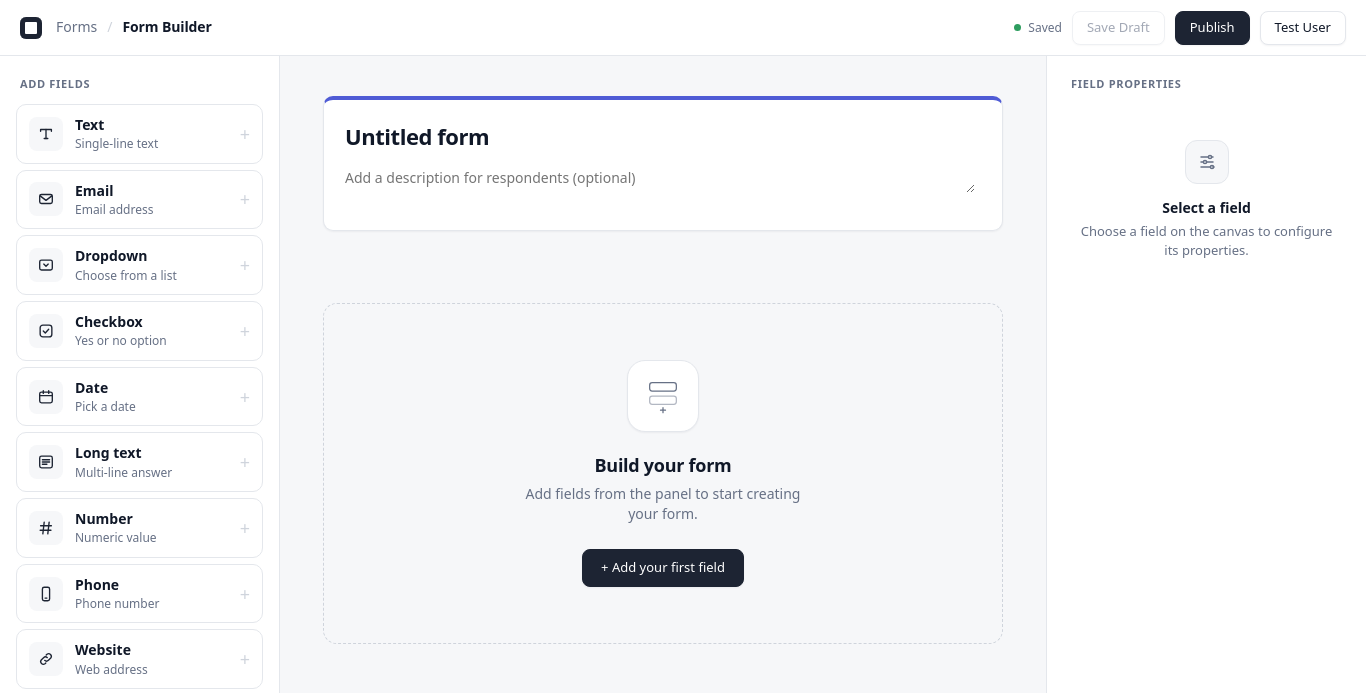
Test: a builder without a form (opened at /) › Publish is usable and saves (creating the form) before publishing
This screenshot has width=1366, height=693.
Expected: the button "Publish" is enabled, [1175,10,1250,44]
Click the button with aria-label "Add Text field".
click(140, 134)  # box [16,104,263,164]
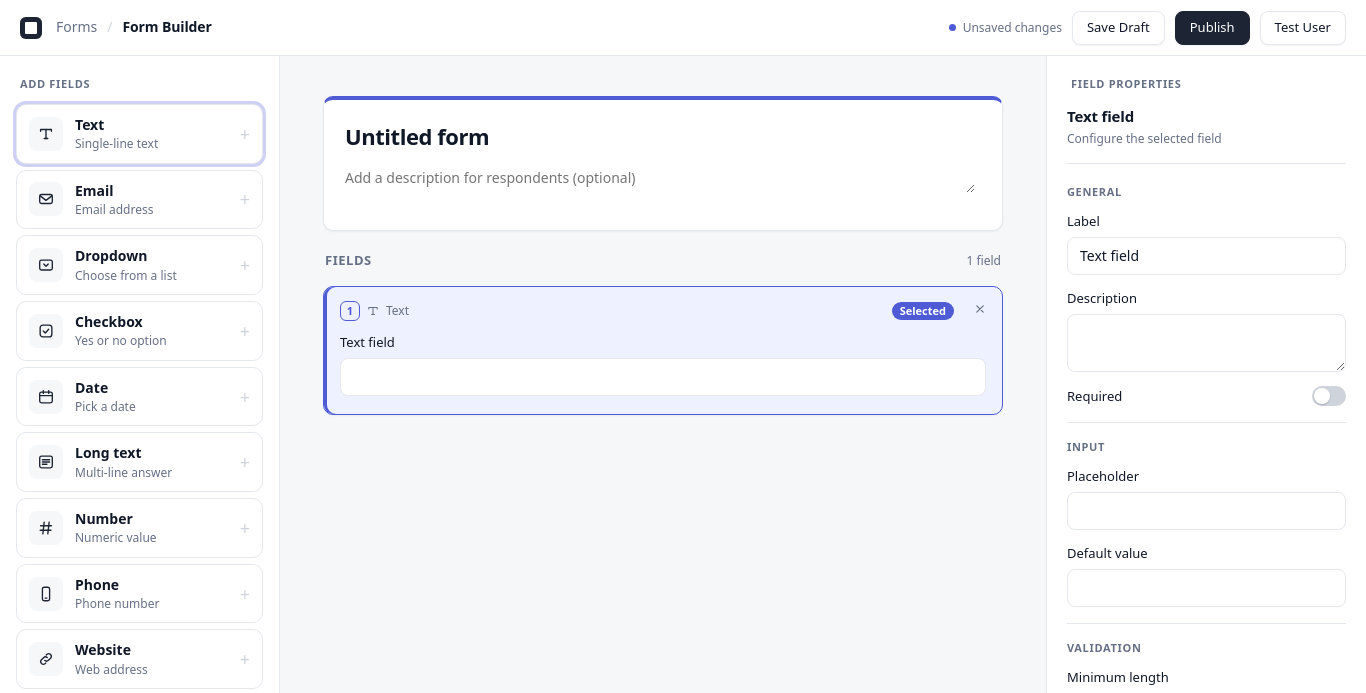
Click the button "Publish".
click(1212, 28)  # box [1175,10,1250,44]
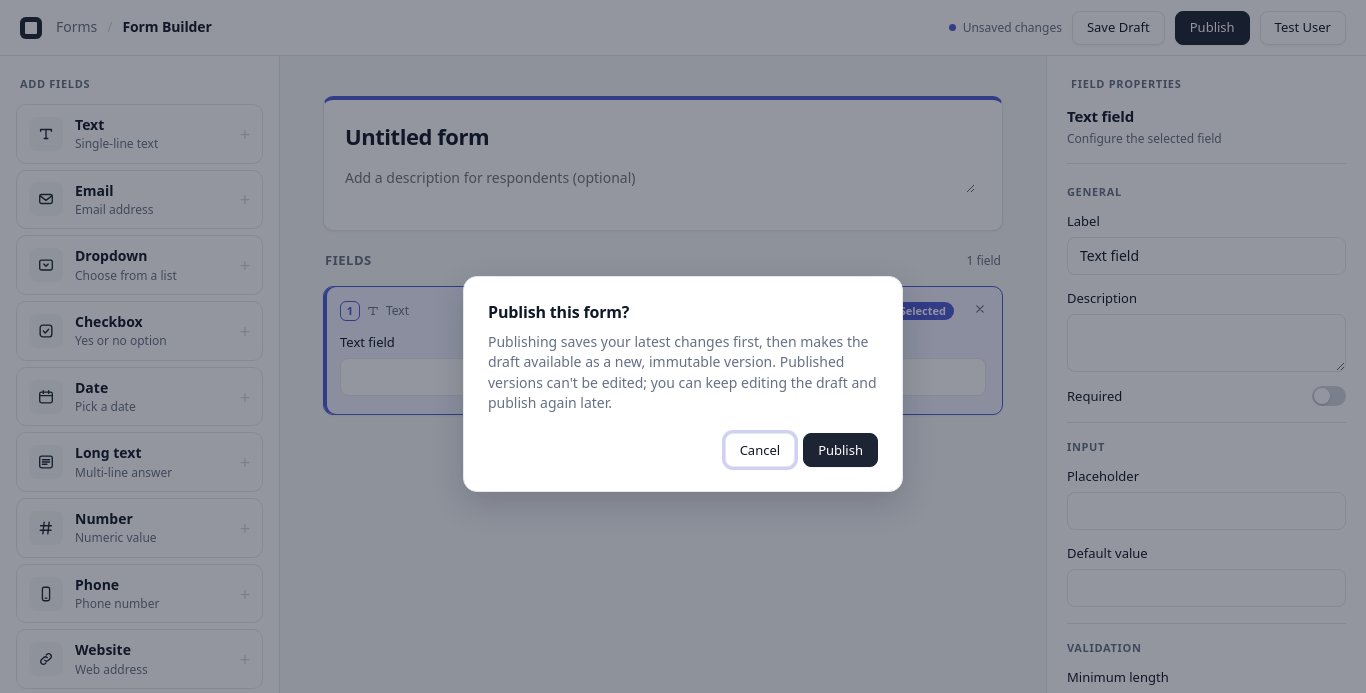
Click the button with class "fb-button-primary" below "Publish this form?".
click(841, 450)  # box [803,433,878,467]
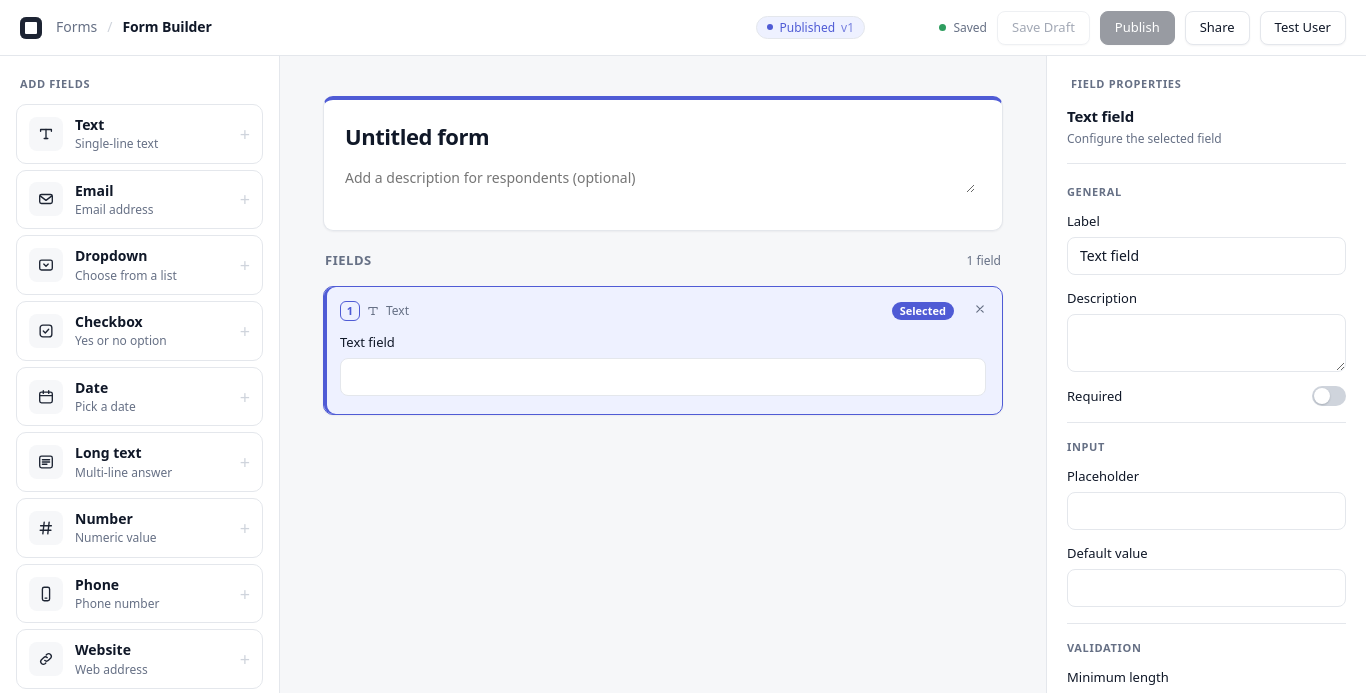
Expected: the element with class "fb-form-status" reads "Published v1", [756,16,865,39]
